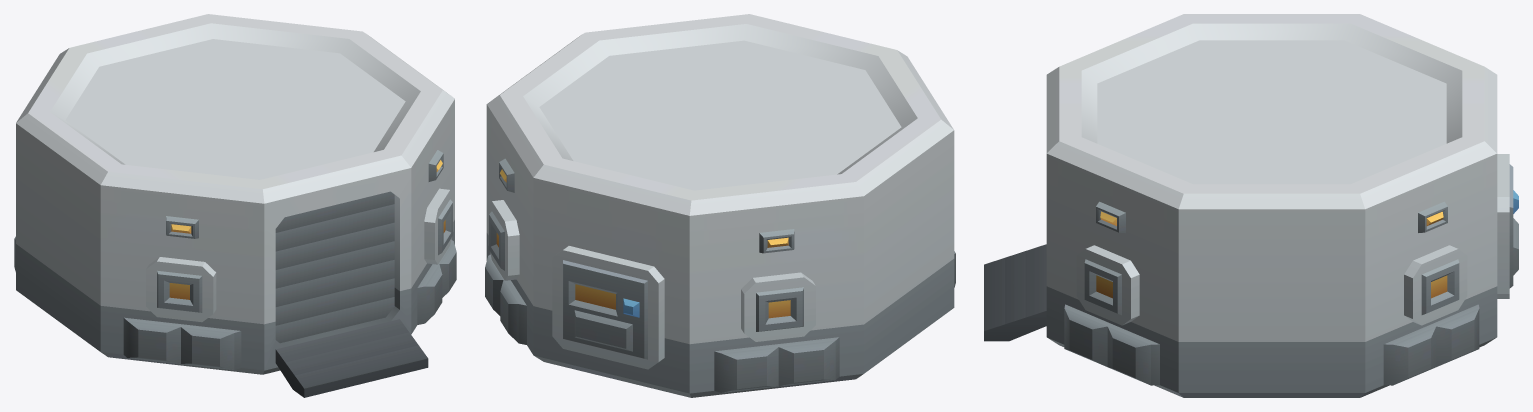
File: basemodule_garage.gltf
3 views of the same model, side by side, from view 1: azimuth 30°, elevation 25°; view 2: azimuth 150°, elevation 25°; view 3: azimuth 270°, elevation 25° (orthographic). The views are drawn at different scales.
Parts seen in each view (by area): view 1: basemodule_garage, basemodule_garage_door; view 2: basemodule_garage; view 3: basemodule_garage.
Part boxes in pixels (x1,y1,x2,y2): basemodule_garage: [14, 14, 456, 397]; basemodule_garage_door: [275, 191, 394, 343]; basemodule_garage: [485, 14, 955, 397]; basemodule_garage: [984, 14, 1518, 397].
Size of the model in its own units: 2 by 1 by 2.37.
1 material, 1 textured.
